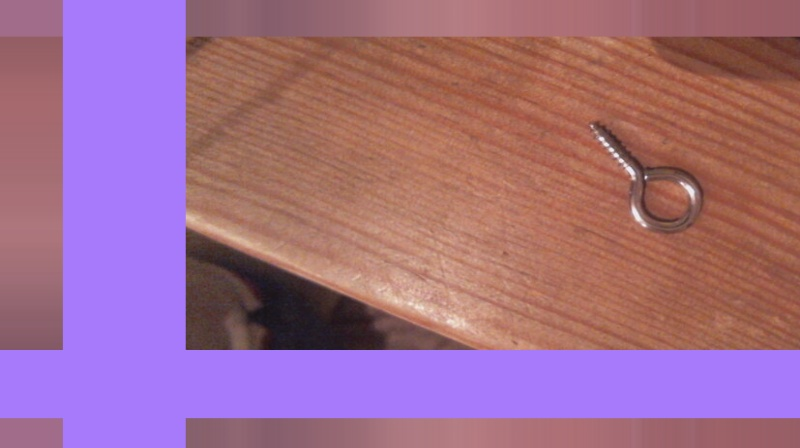O001: (586, 118, 703, 234)
